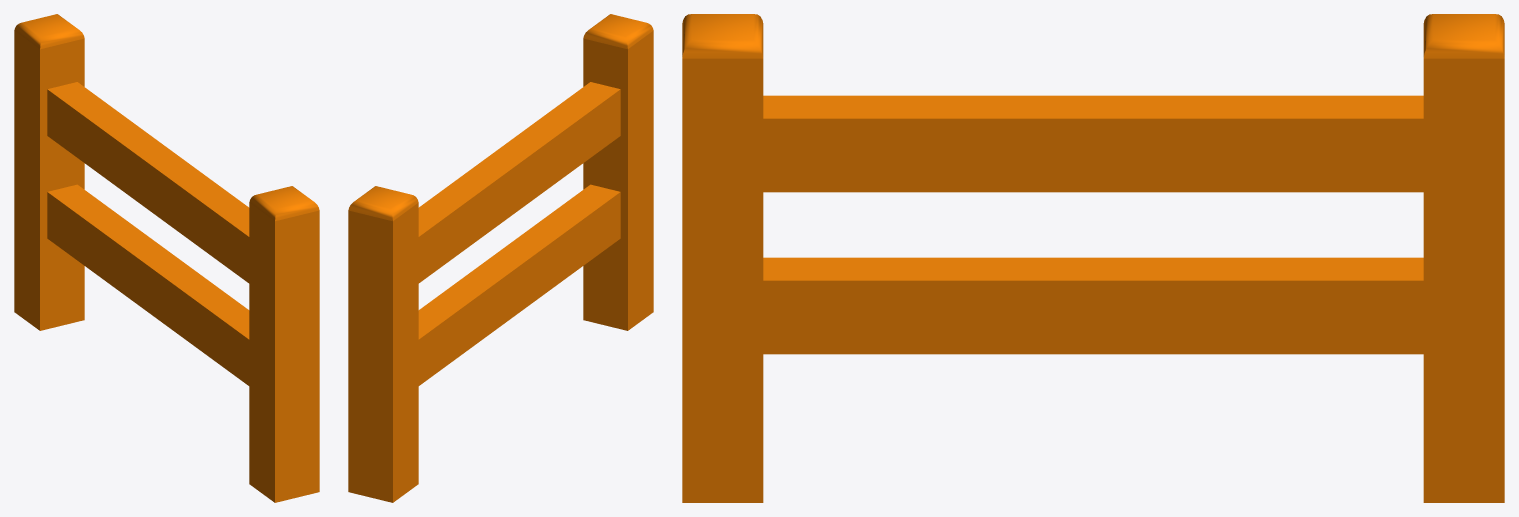
Rendered from fence.fbx.
The picture shows the model from 3 angles, left to right: view 1: azimuth 30°, elevation 25°; view 2: azimuth 150°, elevation 25°; view 3: azimuth 270°, elevation 25°; orthographic projection. The views are drawn at different scales.
Parts seen in each view (by area): view 1: Fence; view 2: Fence; view 3: Fence.
Part boxes in pixels (left/top/right/bottom): Fence: left=14, top=14, right=319, bottom=502; Fence: left=348, top=14, right=653, bottom=502; Fence: left=682, top=14, right=1504, bottom=502.
Size of the model in its own units: 200 by 1247 by 2026.
